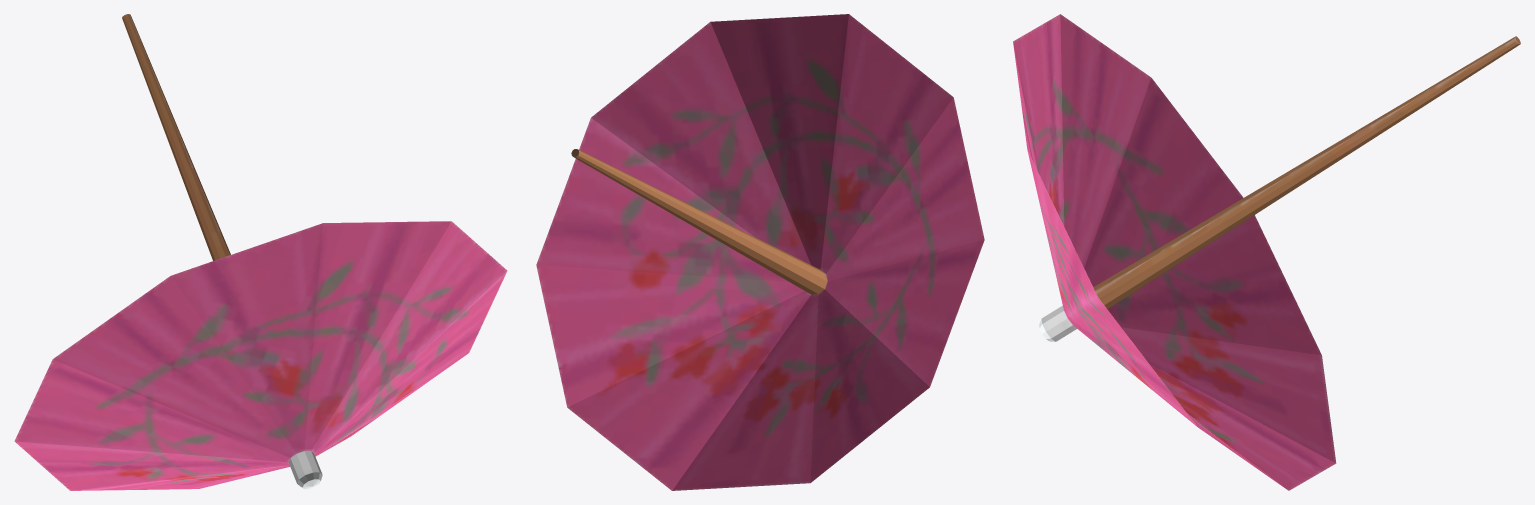
The model's file is paper_umbrella.obj.
The picture shows the model from 3 angles, left to right: view 1: azimuth 30°, elevation 25°; view 2: azimuth 150°, elevation 25°; view 3: azimuth 270°, elevation 25°; orthographic projection. The views are drawn at different scales.
Parts seen in each view (by area): view 1: dynamic; view 2: dynamic; view 3: dynamic.
Part boxes in pixels (box(x1,y1,x2,y2)): dynamic: box(14, 14, 507, 490); dynamic: box(536, 14, 984, 490); dynamic: box(1013, 14, 1520, 490).
Size of the model in its own units: 11.83 by 10.57 by 11.22.
Materials: 1 (1 with a texture image).
